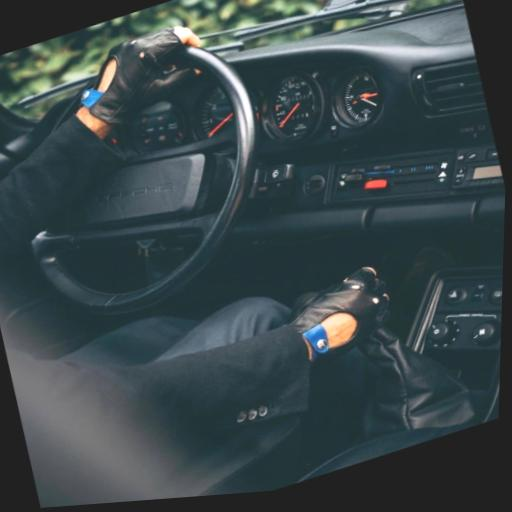Hands-on-the-Wheel: (21, 0, 271, 171)
